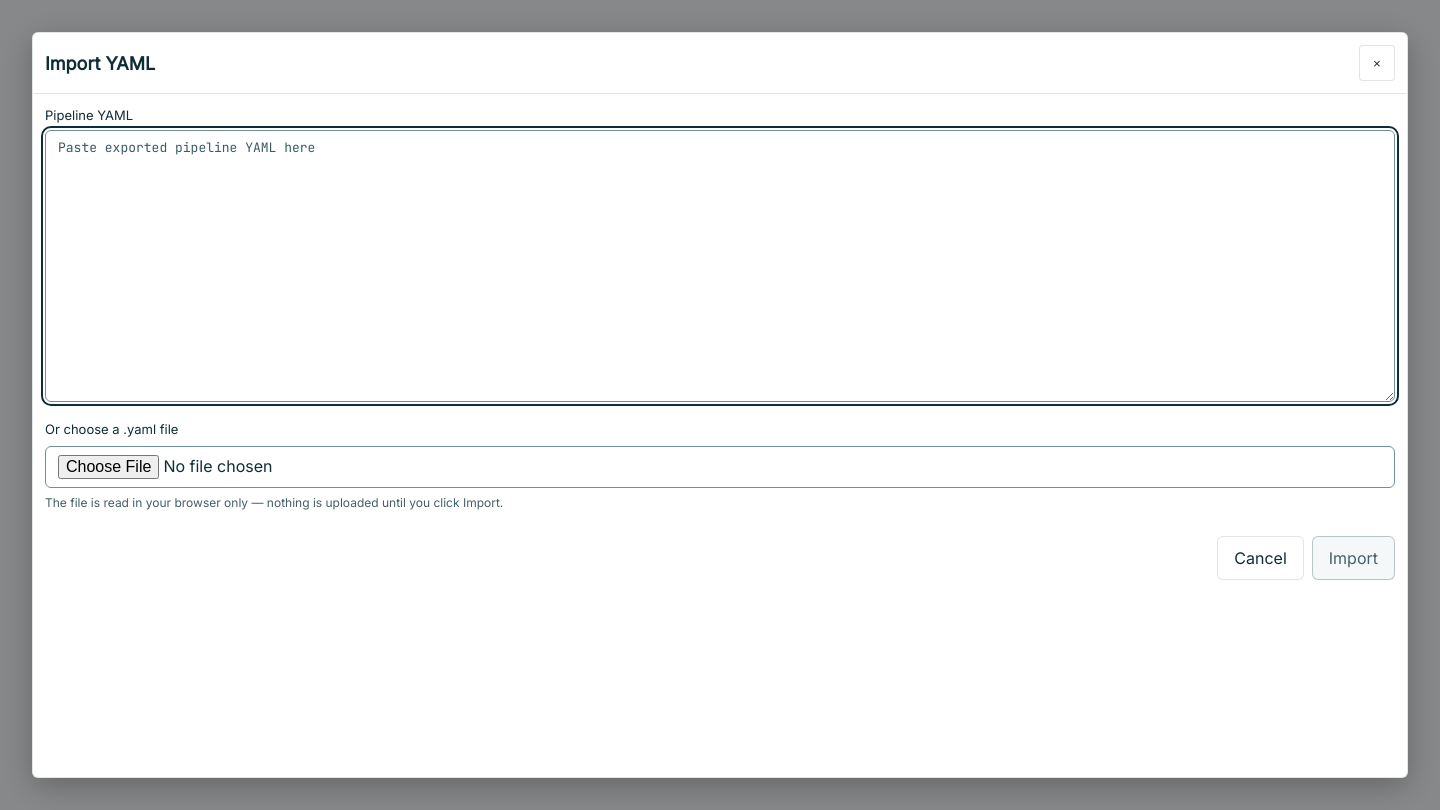
Scenario: ImportYamlModal › disables Import with inline validation when YAML syntax is malformed
In the text box labelled "Pipeline YAML": (720, 266) x1=45 y1=130 x2=1395 y2=402, type "sources: [this is: not: valid"
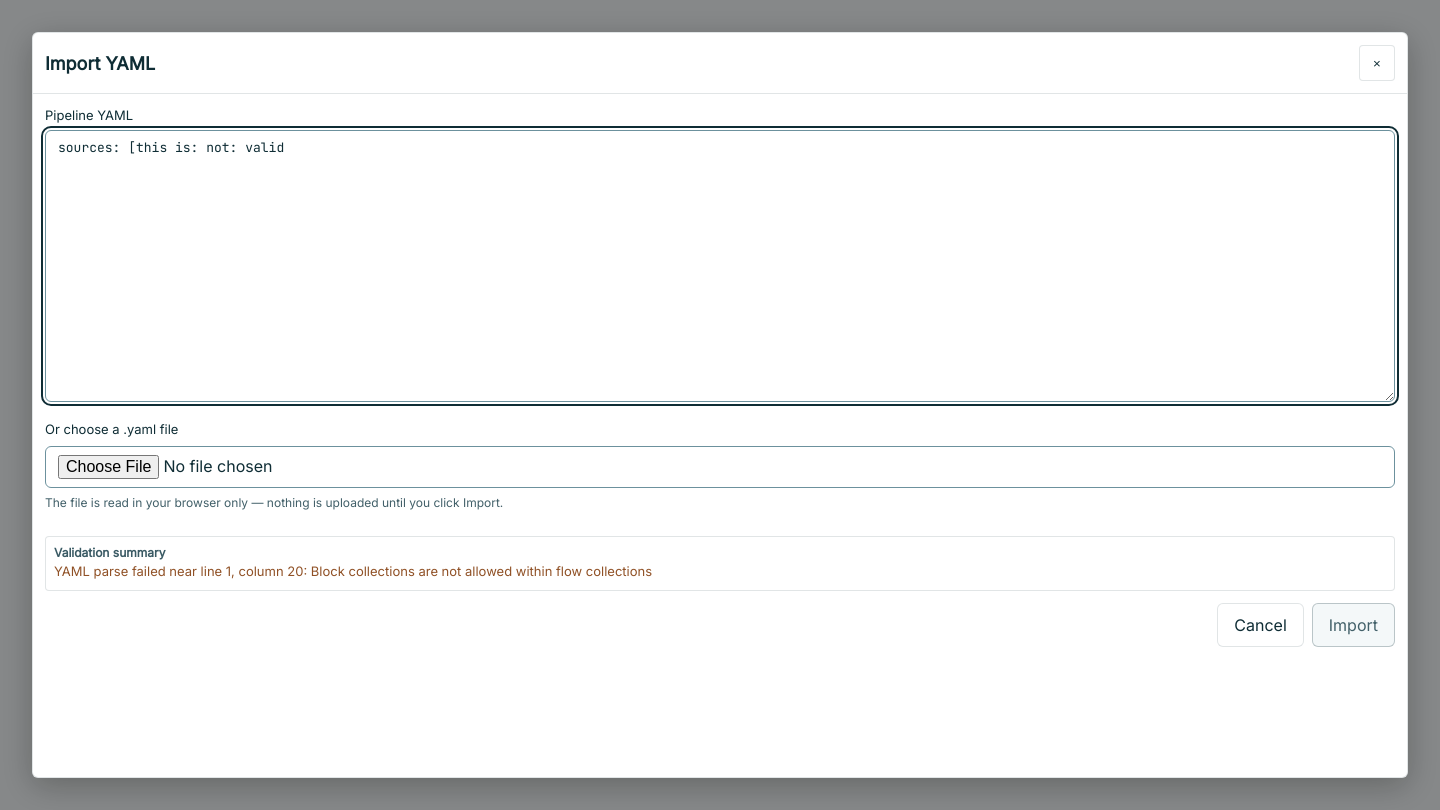
Check: the button "Import" is disabled, box x1=1312 y1=603 x2=1395 y2=647
Check: the text "Validation summary" is shown, box x1=54 y1=545 x2=166 y2=560
Check: the text "YAML parse failed near line 1" is shown, box x1=54 y1=563 x2=652 y2=579
